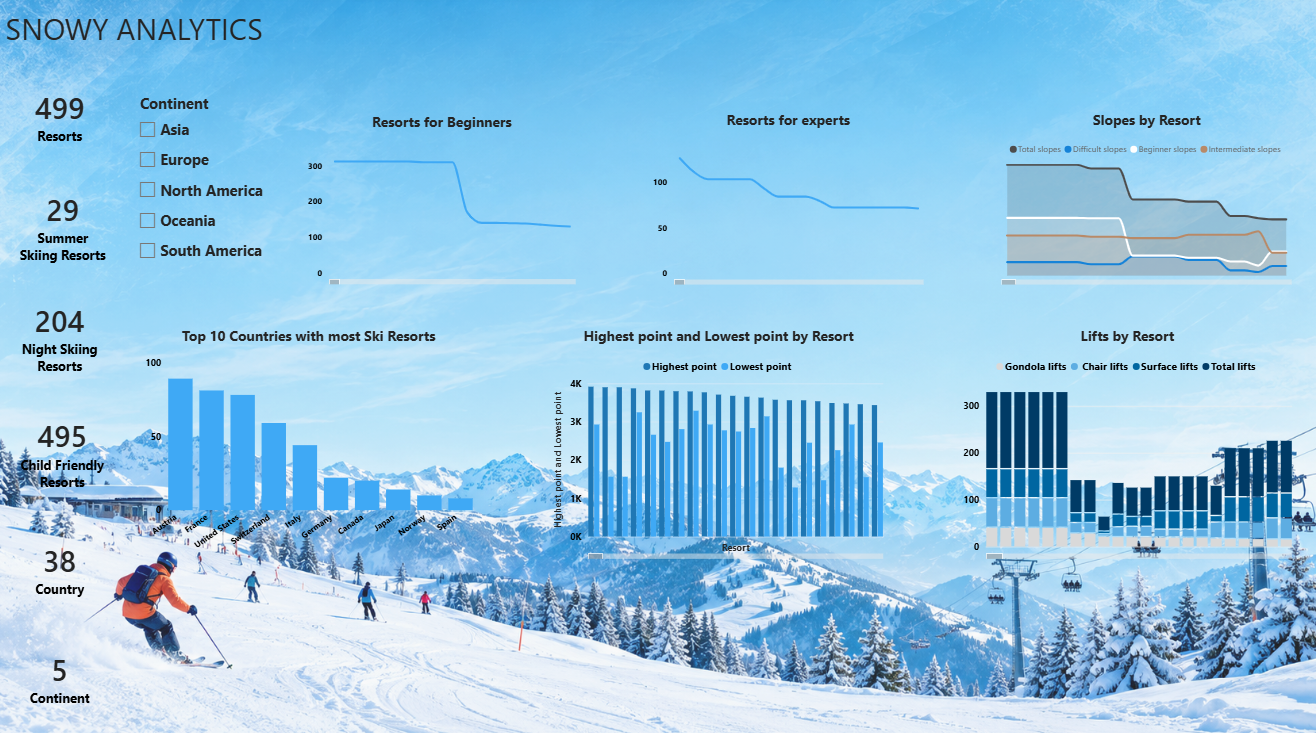

What the dashboard file says about the page in this screenshot:
{"tool":"powerbi","page":{"name":"Page 1","canvas":[1920,1080],"ordinal":0},"visuals":[{"type":"textbox","box":[17.3,17.3,374.6,57.9],"z":0},{"type":"cardVisual","fields":{"Data":["_Measure.Total Resorts"]},"box":[17.3,108.2,158,134.2],"z":1000},{"type":"cardVisual","fields":{"Data":["_Measure.Child Friendly Resorts"]},"box":[21.6,595.1,158,136.3],"z":2000},{"type":"cardVisual","fields":{"Data":["_Measure.Total Countries"]},"box":[17.3,763.9,158,136.3],"z":3000},{"type":"cardVisual","fields":{"Data":["_Measure.Total Continents"]},"box":[17.3,921.9,158,136.3],"z":4000},{"type":"cardVisual","fields":{"Data":["_Measure.Summer Skiing Resorts"]},"box":[17.3,274.8,166.6,121.2],"z":5000},{"type":"cardVisual","fields":{"Data":["_Measure.Night Skiing Resorts"]},"box":[17.3,428.5,158,134.2],"z":6000},{"type":"slicer","fields":{"Values":["resorts.Continent"]},"box":[203.4,138.5,218.6,290],"z":7000},{"type":"clusteredColumnChart","title":"Top 10 Countries with most Ski Resorts","fields":{"Category":["resorts.Country"],"Y":["CountNonNull(resorts.ID)"]},"box":[202.7,465.1,508.5,367.4],"z":8000},{"type":"lineChart","title":"Resorts for Beginners","fields":{"Category":["resorts.Resort"],"Y":["Sum(resorts.Beginner slopes)"]},"box":[439.3,155.9,419.8,279.2],"z":9000},{"type":"lineChart","title":"Resorts for experts","fields":{"Category":["resorts.Resort"],"Y":["Sum(resorts.Difficult slopes)"]},"box":[939.2,151.5,424.2,283.5],"z":10000},{"type":"lineChart","title":"Slopes by Resort","fields":{"Category":["resorts.Resort"],"Y":["Sum(resorts.Total slopes)","Sum(resorts.Difficult slopes)","Sum(resorts.Beginner slopes)","Sum(resorts.Intermediate slopes)"]},"box":[1443.5,151.5,452.3,283.5],"z":11000},{"type":"clusteredColumnChart","title":"Highest point and Lowest point by Resort","fields":{"Category":["resorts.Resort"],"Y":["Avg(resorts.Highest point)","Avg(resorts.Lowest point)"]},"box":[795.3,465.1,508.5,367.4],"z":12000},{"type":"columnChart","title":"Lifts by Resort","fields":{"Category":["resorts.Resort"],"Y":["Sum(resorts.Gondola lifts)","Sum(resorts.Chair lifts)","Sum(resorts.Surface lifts)","Sum(resorts.Total lifts)"]},"box":[1388,465.1,508.5,367.4],"z":13000}]}

Visuals, with their boxes in screenshot pixels (x1, y1, x2, y2), scaled from the page's 1920x1080 canvas onto the 1316x733 screenshot:
textbox: 12,12,269,51
cardVisual - _Measure.Total Resorts: 12,73,120,165
cardVisual - _Measure.Child Friendly Resorts: 15,404,123,496
cardVisual - _Measure.Total Countries: 12,518,120,611
cardVisual - _Measure.Total Continents: 12,626,120,718
cardVisual - _Measure.Summer Skiing Resorts: 12,187,126,269
cardVisual - _Measure.Night Skiing Resorts: 12,291,120,382
slicer - resorts.Continent: 139,94,289,291
"Top 10 Countries with most Ski Resorts" clusteredColumnChart: 139,316,487,565
"Resorts for Beginners" lineChart: 301,106,589,295
"Resorts for experts" lineChart: 644,103,934,295
"Slopes by Resort" lineChart: 989,103,1299,295
"Highest point and Lowest point by Resort" clusteredColumnChart: 545,316,894,565
"Lifts by Resort" columnChart: 951,316,1300,565
